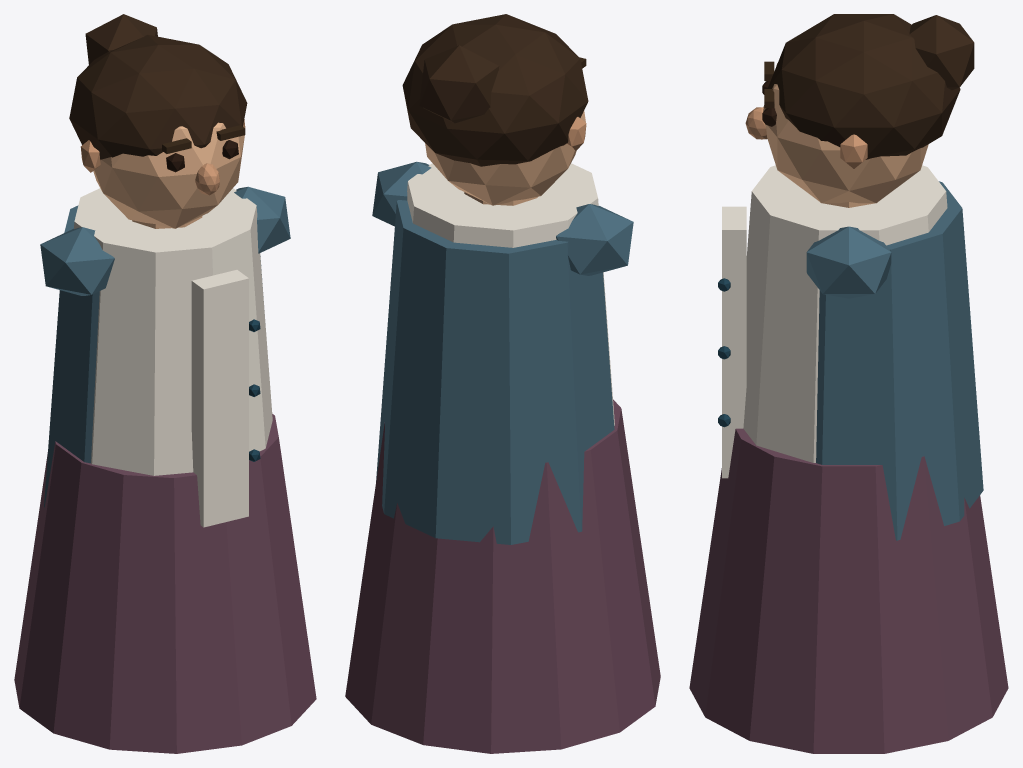
The model's file is insan_k3k_govde.glb.
3 views of the same model, side by side, from view 1: azimuth 30°, elevation 25°; view 2: azimuth 150°, elevation 25°; view 3: azimuth 270°, elevation 25° (orthographic). The views are drawn at different scales.
Parts seen in each view (by area): view 1: Cone; view 2: Cone; view 3: Cone.
Part boxes in pixels (box(x1,y1,x2,y2)): Cone: box(14, 14, 316, 753); Cone: box(345, 14, 660, 753); Cone: box(689, 14, 1008, 753).
Bounding box in the file's own units: 0.1248 × 0.298 × 0.128.
